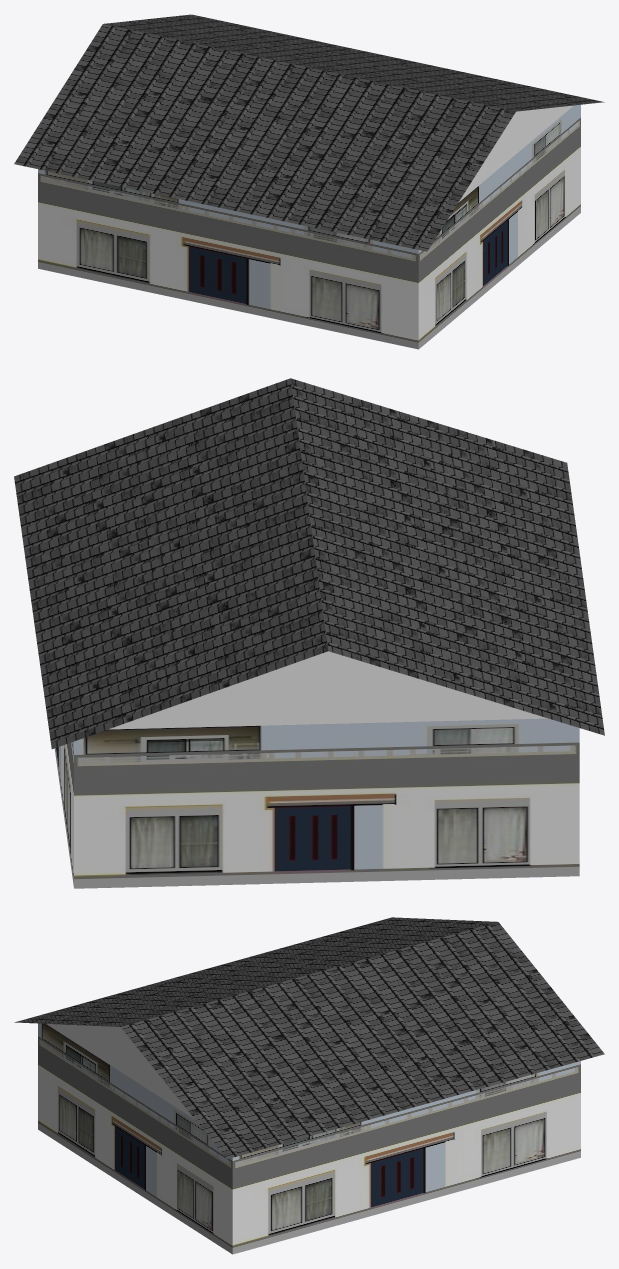
3 renders of one model, top to bottom at view 1: azimuth 30°, elevation 25°; view 2: azimuth 150°, elevation 25°; view 3: azimuth 270°, elevation 25°, orthographic. The views are drawn at different scales.
Visible parts, largest first — view 1: CityEngineMaterial_8_m, CityEngineMaterial_7_m, CityEngineMaterial_3_m; view 2: CityEngineMaterial_8_m, CityEngineMaterial_7_m, CityEngineMaterial_3_m; view 3: CityEngineMaterial_8_m, CityEngineMaterial_7_m, CityEngineMaterial_3_m.
Boxes of the visible parts, <box> form: CityEngineMaterial_8_m: <box>14,14,604,251</box>; CityEngineMaterial_7_m: <box>38,104,580,349</box>; CityEngineMaterial_3_m: <box>458,105,573,202</box>; CityEngineMaterial_8_m: <box>14,378,604,749</box>; CityEngineMaterial_7_m: <box>54,718,579,888</box>; CityEngineMaterial_3_m: <box>109,651,547,729</box>; CityEngineMaterial_8_m: <box>14,917,604,1159</box>; CityEngineMaterial_7_m: <box>38,1023,580,1254</box>; CityEngineMaterial_3_m: <box>46,1024,194,1119</box>.
Bounding box in the file's own units: 32.28 × 10.53 × 33.32.
